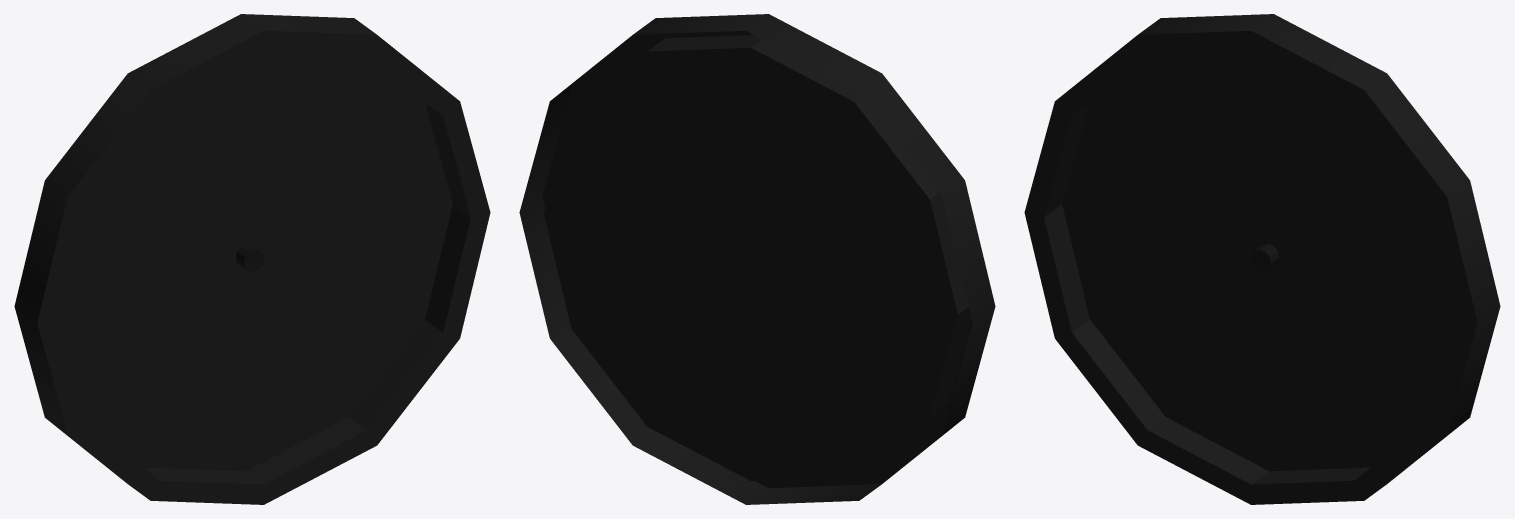
The model's file is Itr_Obj_Grandfatherclock2_Frame_03.FBX.
3 renders of one model, left to right at view 1: azimuth 30°, elevation 25°; view 2: azimuth 150°, elevation 25°; view 3: azimuth 330°, elevation 25°, orthographic.
Visible parts, largest first — view 1: Itr_Obj_Grandfatherclock2_Frame_03; view 2: Itr_Obj_Grandfatherclock2_Frame_03; view 3: Itr_Obj_Grandfatherclock2_Frame_03.
Part boxes in pixels (x1,y1,x2,y2): Itr_Obj_Grandfatherclock2_Frame_03: (14, 14, 490, 504); Itr_Obj_Grandfatherclock2_Frame_03: (519, 14, 995, 504); Itr_Obj_Grandfatherclock2_Frame_03: (1024, 14, 1500, 504).
Bounding box in the file's own units: 12.23 × 12.23 × 1.07.
